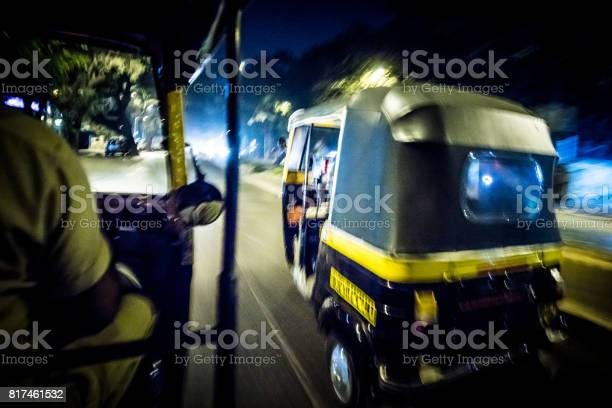rickshaw: (273, 85, 576, 390)
